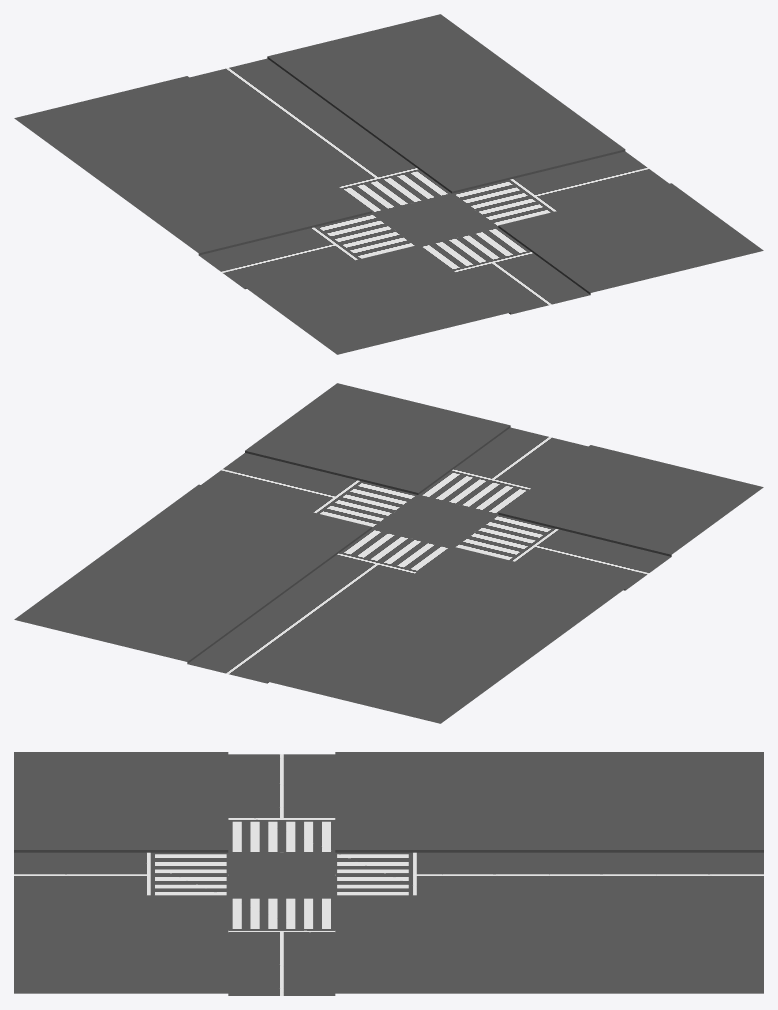
File: ground.glb
3 renders of one model, top to bottom at view 1: azimuth 30°, elevation 25°; view 2: azimuth 150°, elevation 25°; view 3: azimuth 270°, elevation 25°, orthographic. The views are drawn at different scales.
Visible parts, largest first — view 1: ground; view 2: ground; view 3: ground.
Boxes of the visible parts, x1,y1,x2,y2 form: ground: (14,14,763,354); ground: (14,383,763,723); ground: (14,752,763,995).
Bounding box in the file's own units: 32 × 0.15 × 42.
Materials: 1 (1 with a texture image).
